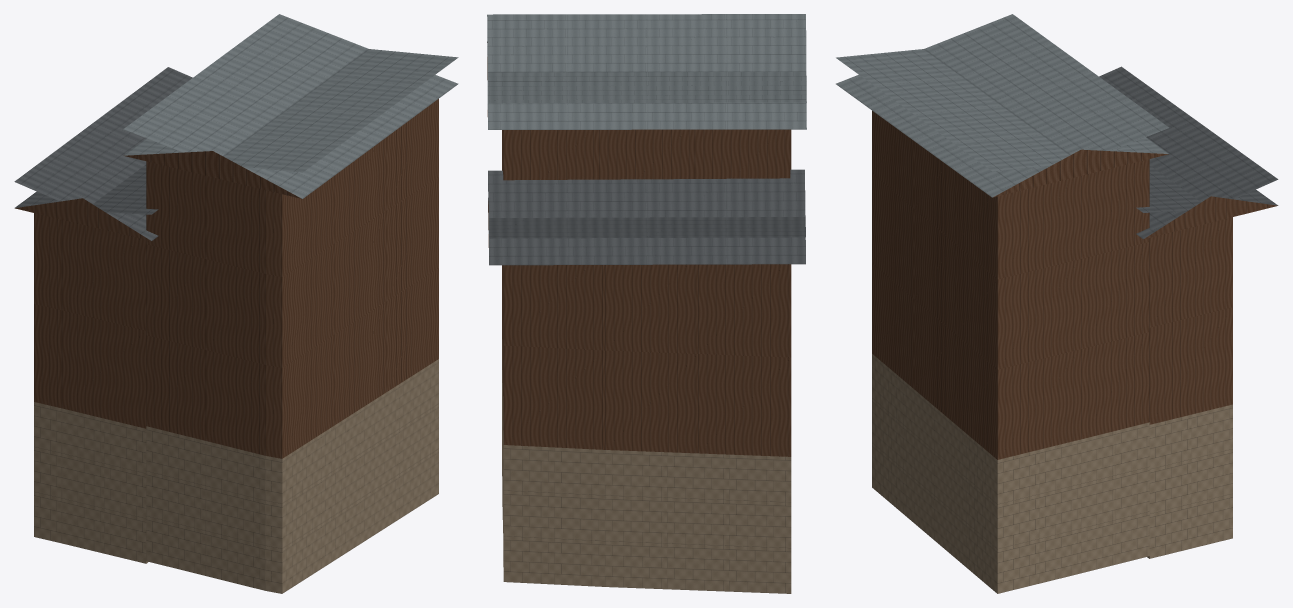
Rendered from bld_c-14_26_480.gltf.
3 renders of one model, left to right at view 1: azimuth 30°, elevation 25°; view 2: azimuth 150°, elevation 25°; view 3: azimuth 270°, elevation 25°, orthographic. The views are drawn at different scales.
Visible parts, largest first — view 1: bld_c-14_26_480; view 2: bld_c-14_26_480; view 3: bld_c-14_26_480.
Part boxes in pixels (x1,y1,x2,y2): bld_c-14_26_480: (14,14,458,593); bld_c-14_26_480: (487,14,806,593); bld_c-14_26_480: (836,14,1278,593).
Bounding box in the file's own units: 15 × 16.5 × 15.29.
5 materials, 5 textured.
